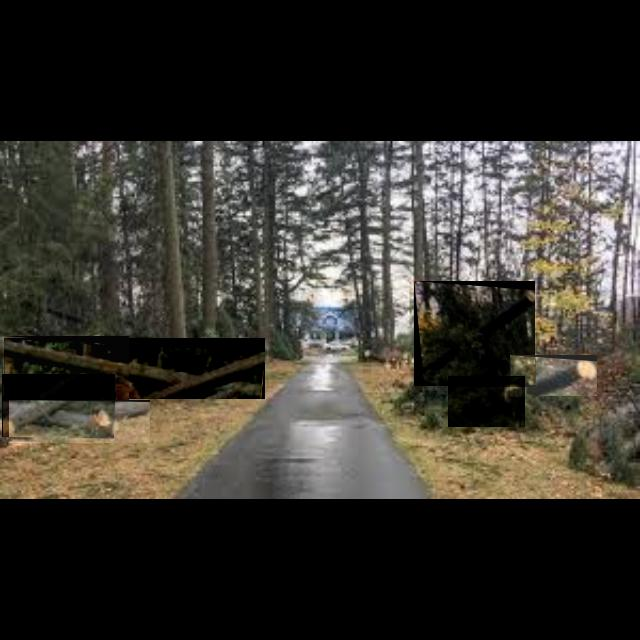Fallen Tree: (4, 338, 266, 400), (414, 281, 536, 387), (2, 336, 130, 406), (2, 374, 116, 438), (9, 400, 151, 444), (448, 376, 526, 428), (510, 355, 598, 397)
